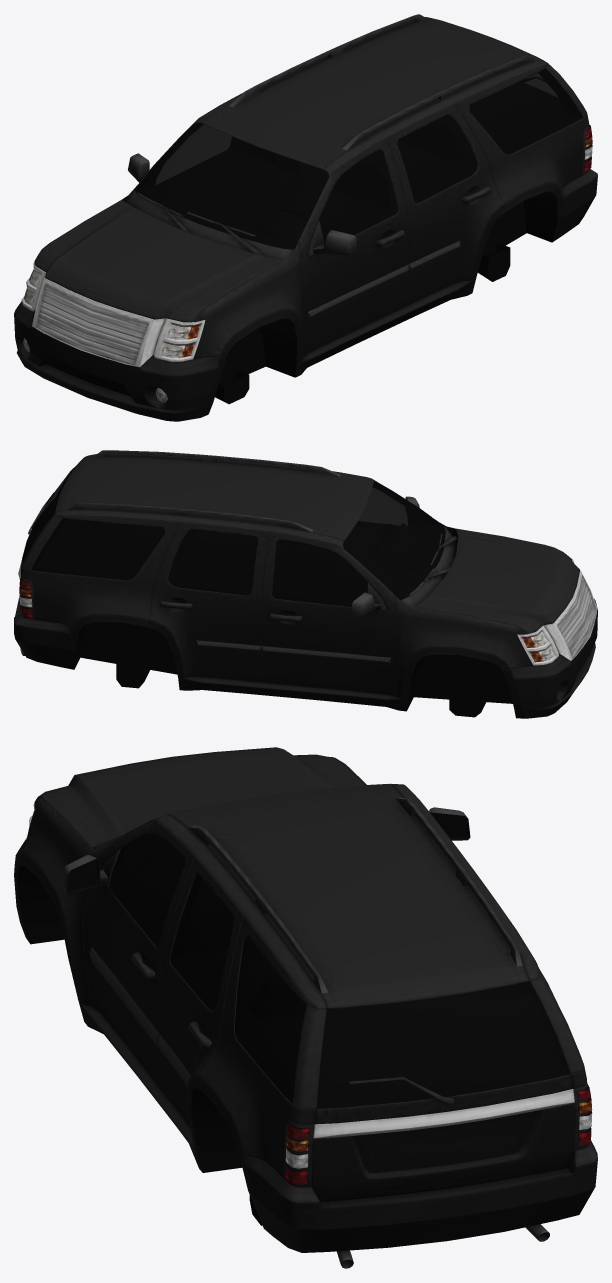
File: auto-suv.glb
3 renders of one model, top to bottom at view 1: azimuth 30°, elevation 25°; view 2: azimuth 150°, elevation 25°; view 3: azimuth 270°, elevation 25°, orthographic. The views are drawn at different scales.
Visible parts, largest first — view 1: SUV Body; view 2: SUV Body; view 3: SUV Body.
Boxes of the visible parts, box(x1,y1,x2,y2) form: SUV Body: box(14, 14, 597, 421); SUV Body: box(14, 450, 597, 718); SUV Body: box(14, 747, 597, 1268).
Size of the model in its own units: 4.65 by 1.53 by 2.84.
3 materials, 2 textured.
